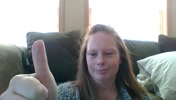hand: (3, 35, 74, 99)
